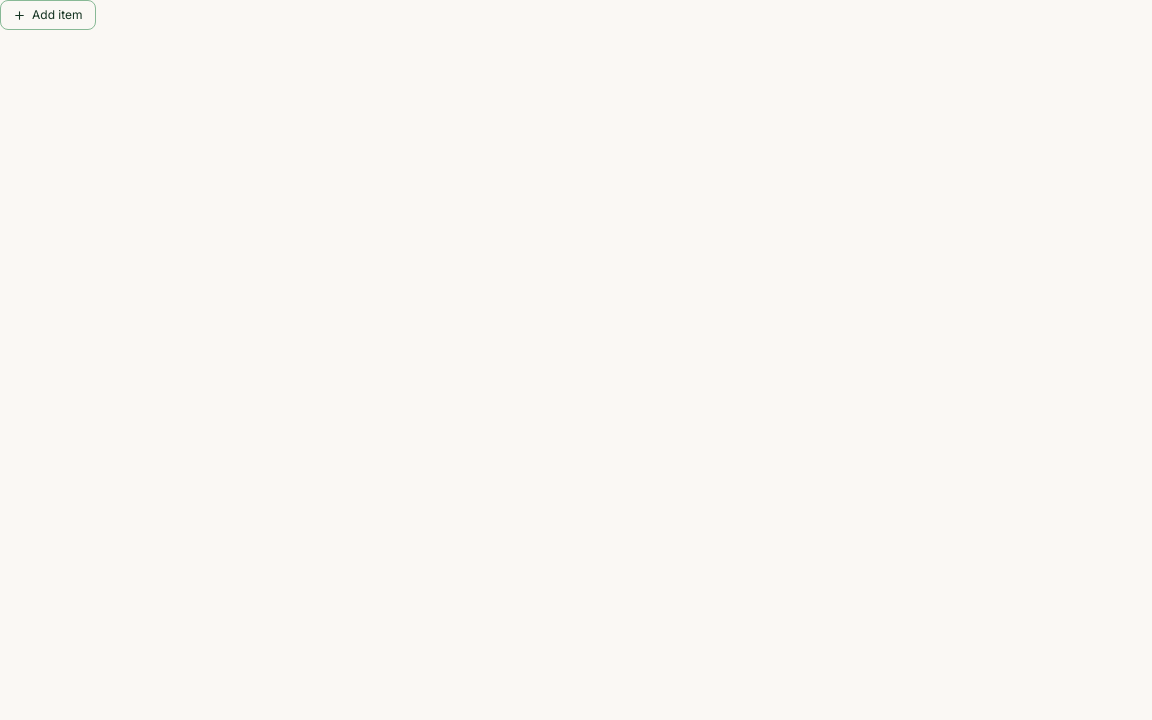
Scenario: S3 — the chip config surface › a mousedown outside the popover does close it
Later steps or results of the test are not shown.
Step 1. Click the button "Add item" → (48, 15), box [0,0,96,30]
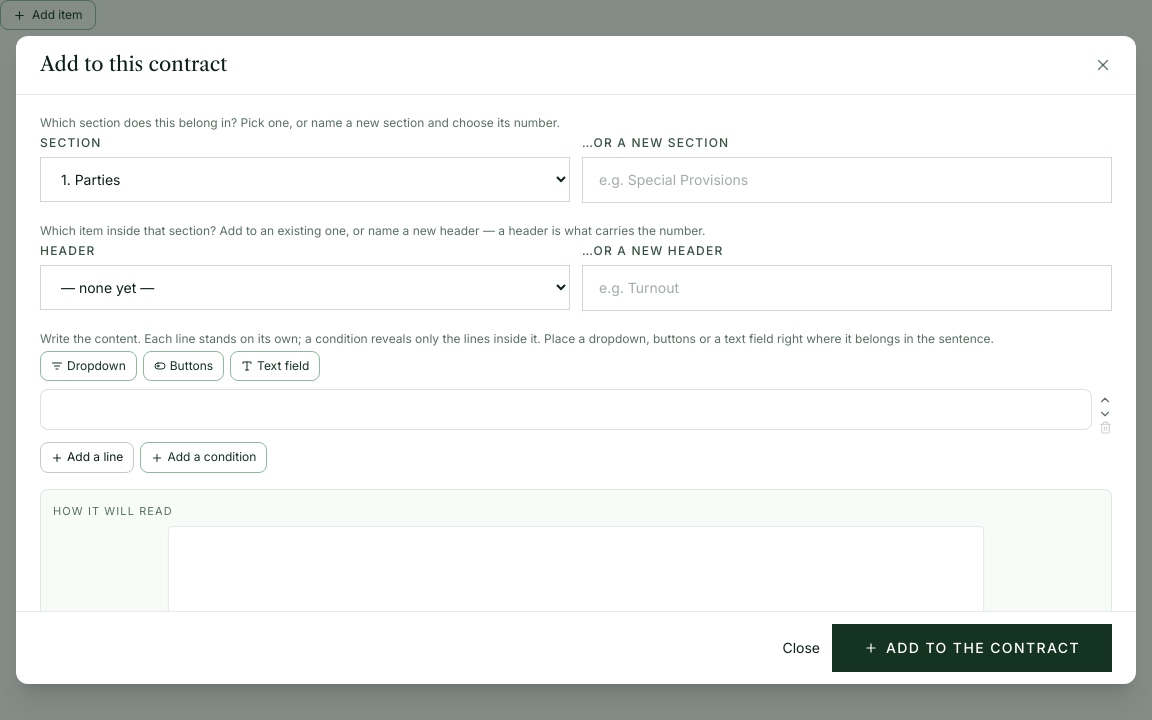
Step 2. Click the button "Buttons" → (183, 366), box [143,351,224,381]
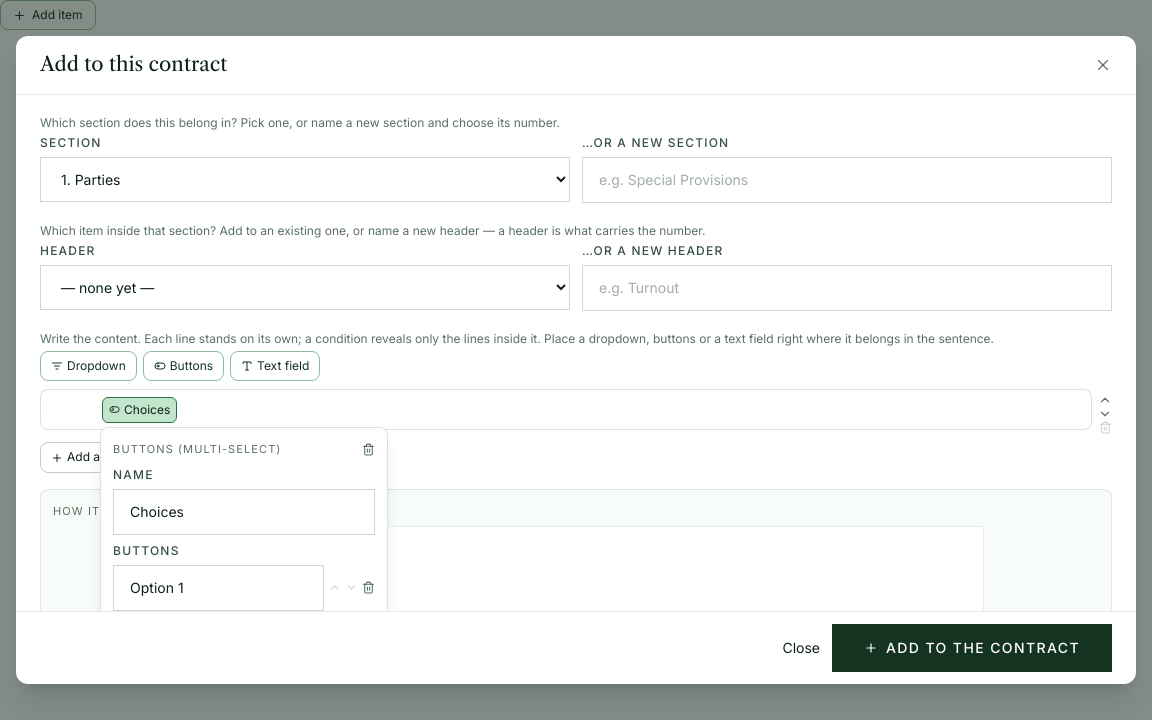
expect the field with placeholder "What this asks for" is shown: met, box [113,489,375,535]
